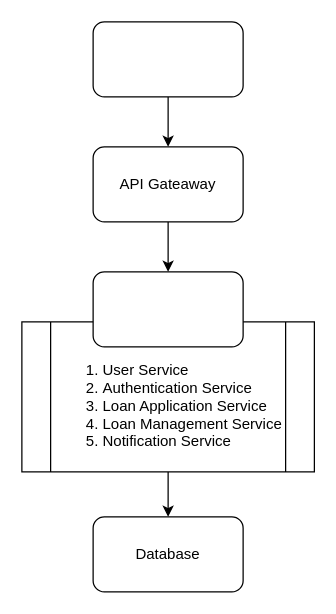
The diagram is 336 pixels wide and 614 high, and some of its shapes have lost their labels. The shapes that lost their labels are listed below. From the top down, each one's centre as x and y in pixels, then its label:
At (167,59): "Mobile Apps".
At (167,309): "Application Services".
